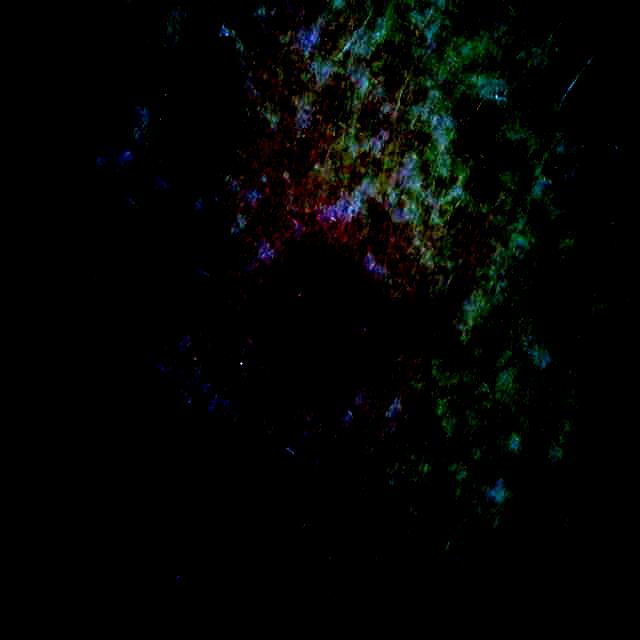BCC: (277, 249, 375, 387)
